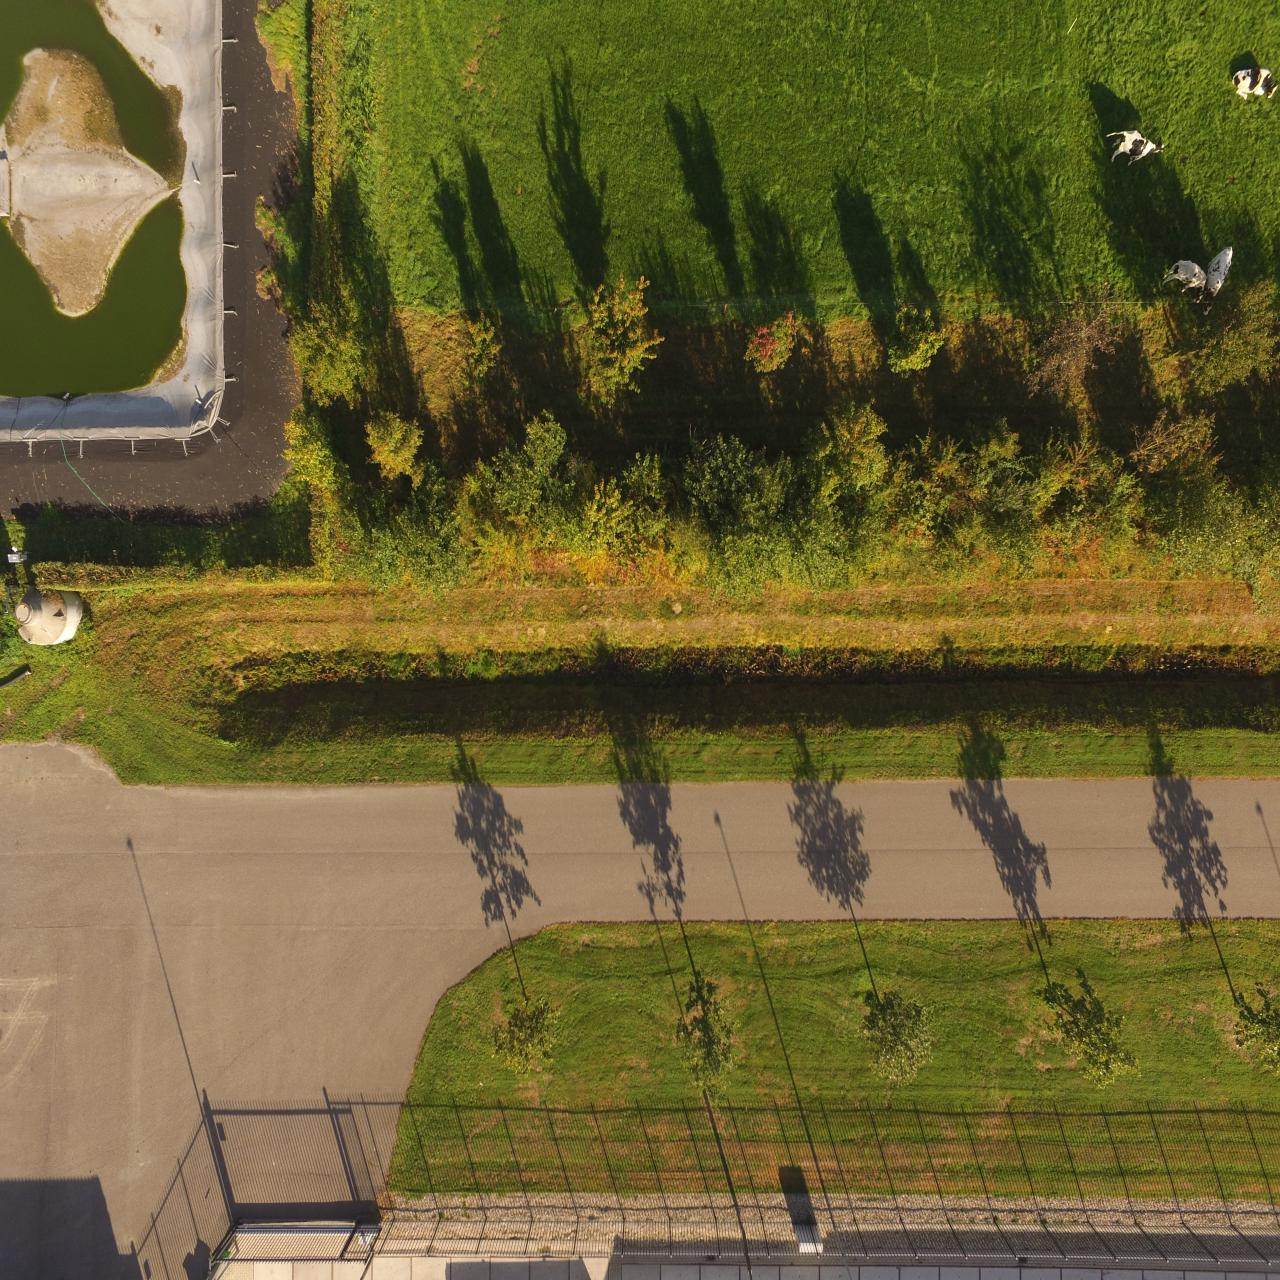cow: (1105, 124, 1170, 164), (1204, 244, 1240, 313), (1235, 56, 1274, 109), (1162, 253, 1210, 295)
